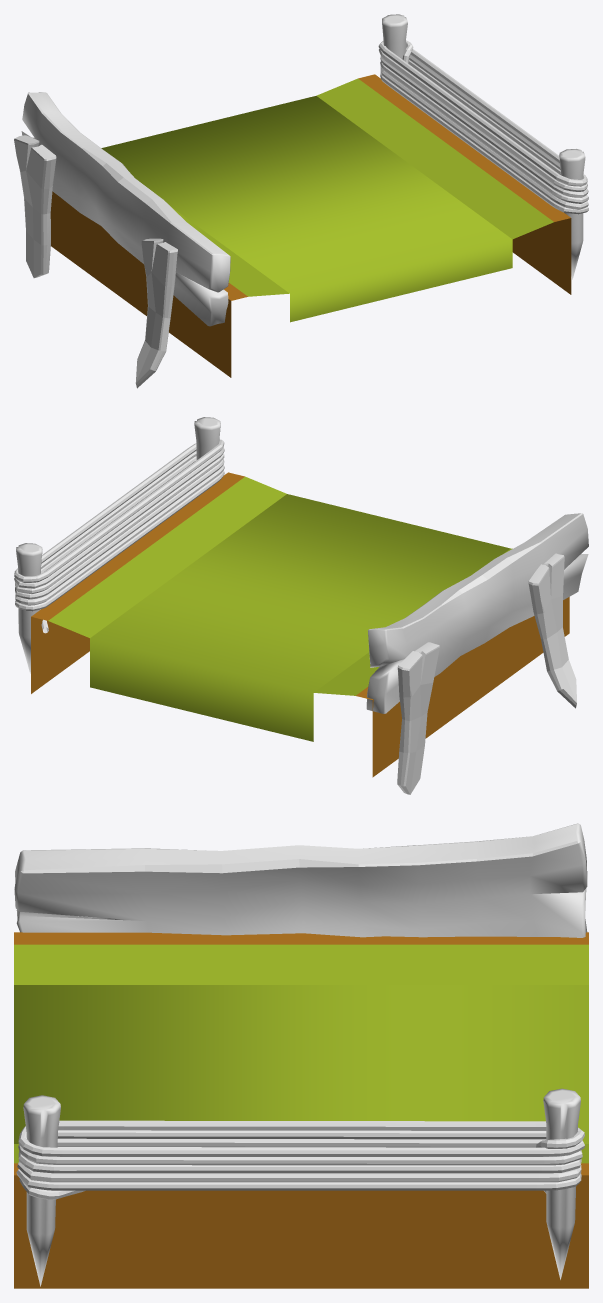
File: Straight_Sloped_Sides02.fbx
3 views of the same model, one above another, from view 1: azimuth 30°, elevation 25°; view 2: azimuth 150°, elevation 25°; view 3: azimuth 270°, elevation 25° (orthographic). The views are drawn at different scales.
Parts seen in each view (by area): view 1: Plane.002, Plane.007, Plane.013, Plane.003, Plane.001; view 2: Plane.002, Plane.007, Plane.013, Plane.003, Plane.001; view 3: Plane.002, Plane.013, Plane.007, Plane.003, Plane.001.
Boxes of the visible parts, box(x1,y1,x2,y2) form: Plane.002: box(101, 96, 512, 322); Plane.007: box(14, 92, 230, 388); Plane.013: box(316, 74, 571, 294); Plane.003: box(378, 14, 588, 279); Plane.001: box(50, 191, 289, 377); Plane.002: box(90, 494, 510, 741); Plane.007: box(366, 513, 588, 794); Plane.013: box(31, 472, 286, 693); Plane.003: box(14, 417, 224, 673); Plane.001: box(314, 548, 569, 777); Plane.002: box(14, 985, 588, 1143); Plane.013: box(14, 1144, 588, 1288); Plane.007: box(14, 823, 587, 937); Plane.003: box(16, 1088, 584, 1286); Plane.001: box(14, 932, 588, 984).
Size of the model in its own units: 245 by 99.75 by 200.
